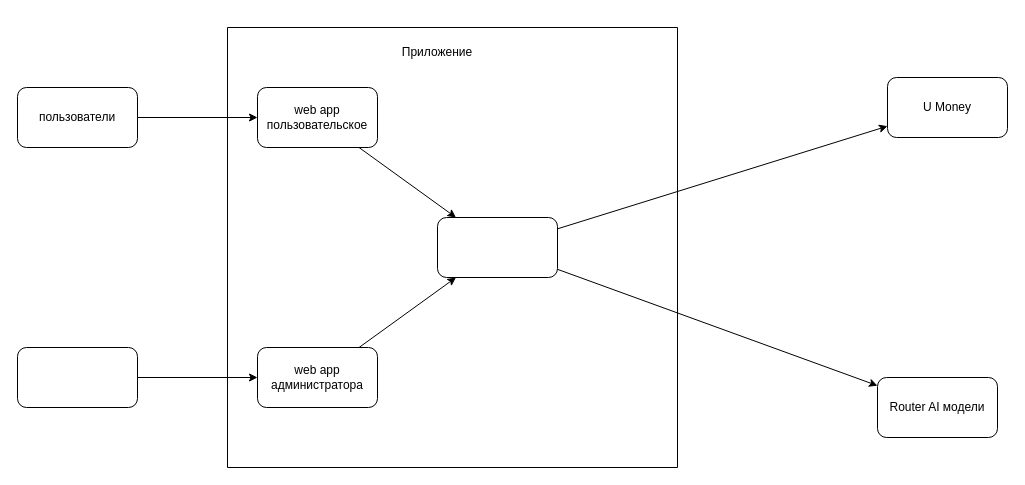
The diagram is 1025 pixels wide and 485 high, and some of its shapes have lost their labels. The shapes that lost their labels are listed below. From the top down, each one's centre as x and y in pixels, then its label:
At point 497,247: "backend".
At point 77,377: "администратор".
